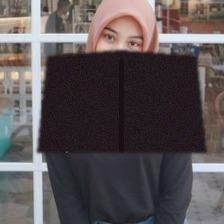Cadar_Niqab: (37, 0, 207, 152)
